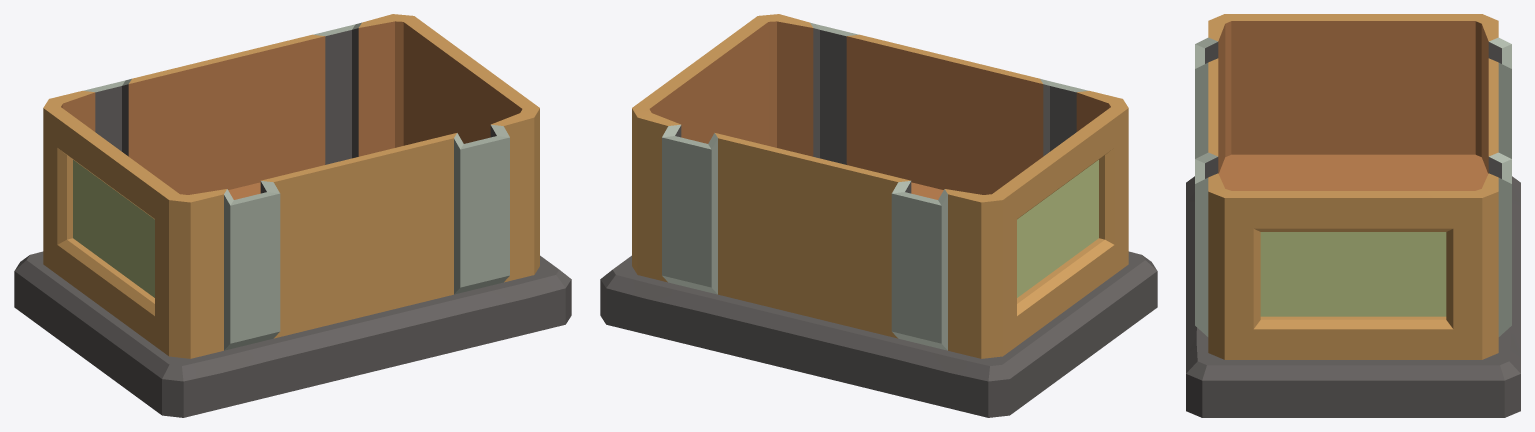
Rendered from chestDown.fbx.
3 views of the same model, side by side, from view 1: azimuth 30°, elevation 25°; view 2: azimuth 150°, elevation 25°; view 3: azimuth 270°, elevation 25° (orthographic). The views are drawn at different scales.
Parts seen in each view (by area): view 1: chestDown; view 2: chestDown; view 3: chestDown.
Part boxes in pixels (x1,y1,x2,y2): chestDown: (14,14,571,417); chestDown: (600,14,1157,417); chestDown: (1186,14,1520,417).
Size of the model in its own units: 247 by 118 by 170.
